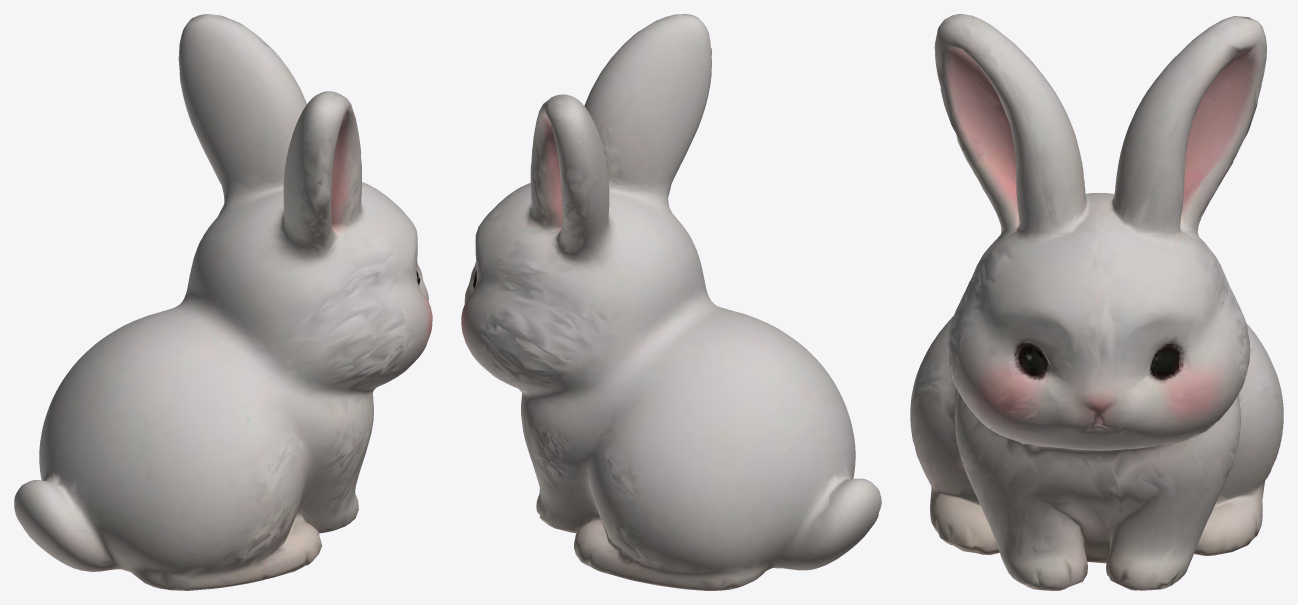
File: rabbit.glb
3 views of the same model, side by side, from view 1: azimuth 30°, elevation 25°; view 2: azimuth 150°, elevation 25°; view 3: azimuth 270°, elevation 25° (orthographic). The views are drawn at different scales.
Visible parts, largest first — view 1: tripo_node_789427a4-2d0e-4015-a746-5ddd19120357; view 2: tripo_node_789427a4-2d0e-4015-a746-5ddd19120357; view 3: tripo_node_789427a4-2d0e-4015-a746-5ddd19120357.
Boxes of the visible parts, <box> form: tripo_node_789427a4-2d0e-4015-a746-5ddd19120357: <box>14,14,432,590</box>; tripo_node_789427a4-2d0e-4015-a746-5ddd19120357: <box>461,14,881,590</box>; tripo_node_789427a4-2d0e-4015-a746-5ddd19120357: <box>910,14,1283,590</box>.
Bounding box in the file's own units: 0.9005 × 1 × 0.6208.
1 material, 1 textured.
